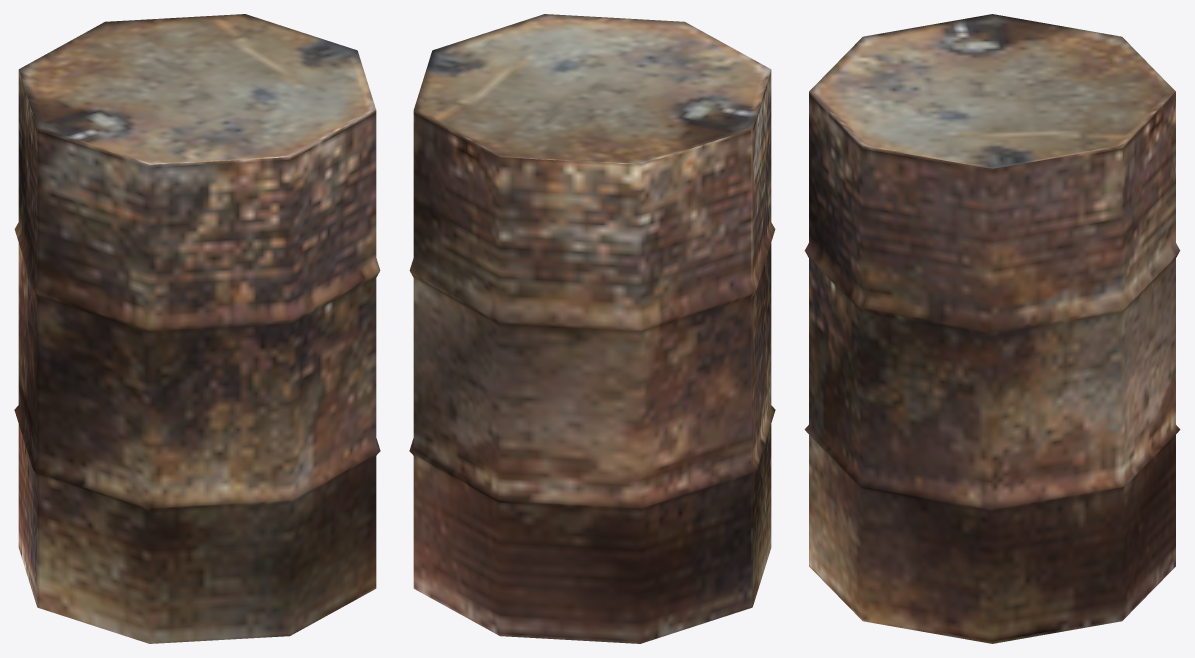
The model's file is barreloil.glb.
The picture shows the model from 3 angles, left to right: view 1: azimuth 30°, elevation 25°; view 2: azimuth 150°, elevation 25°; view 3: azimuth 270°, elevation 25°; orthographic projection.
Visible parts, largest first — view 1: BarrelOil; view 2: BarrelOil; view 3: BarrelOil.
Part boxes in pixels (box(x1,y1,x2,y2)): BarrelOil: box(14, 14, 380, 643); BarrelOil: box(409, 14, 775, 643); BarrelOil: box(804, 14, 1180, 643).
Size of the model in its own units: 0.7175 by 1 by 0.7175.
1 material, 1 textured.
